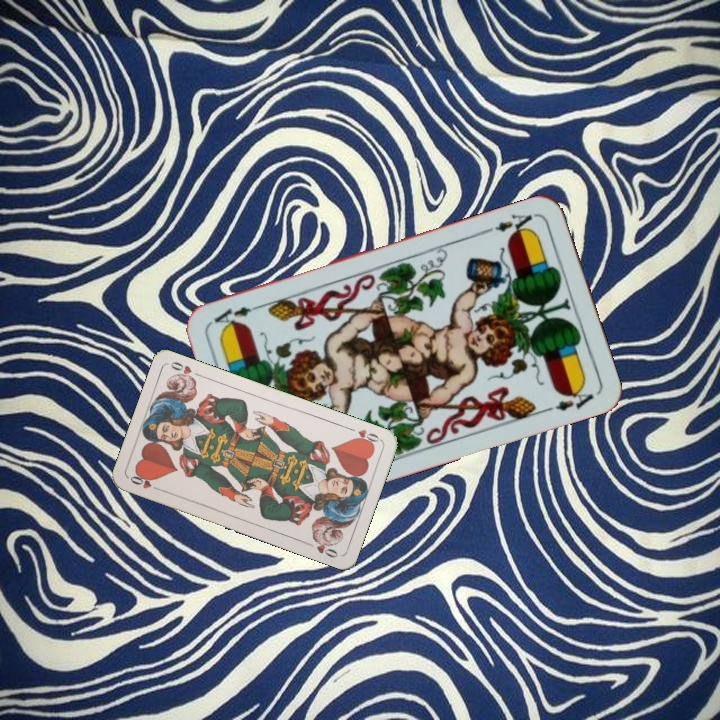EA: (482, 210, 535, 240)
HO: (344, 423, 383, 448), (126, 470, 165, 494)
